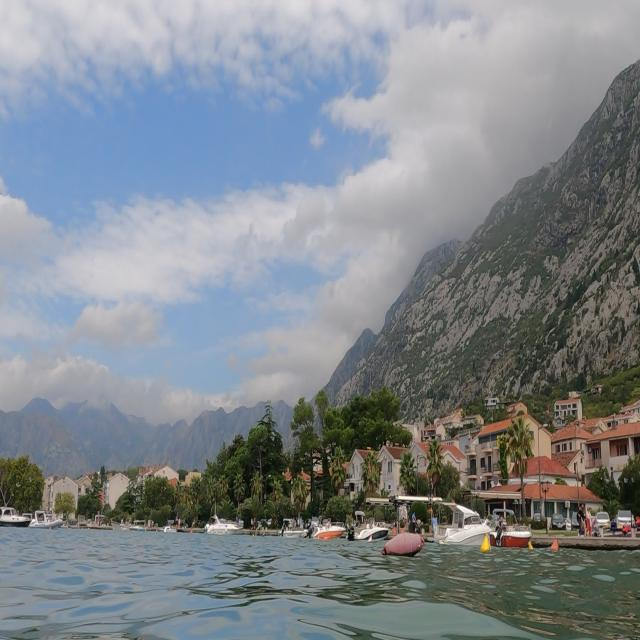boat: (428, 494, 496, 556), (482, 500, 536, 553), (194, 501, 245, 546), (0, 489, 34, 533), (28, 501, 66, 532)
buoy: (377, 528, 430, 563), (479, 530, 494, 560), (548, 534, 563, 560)
